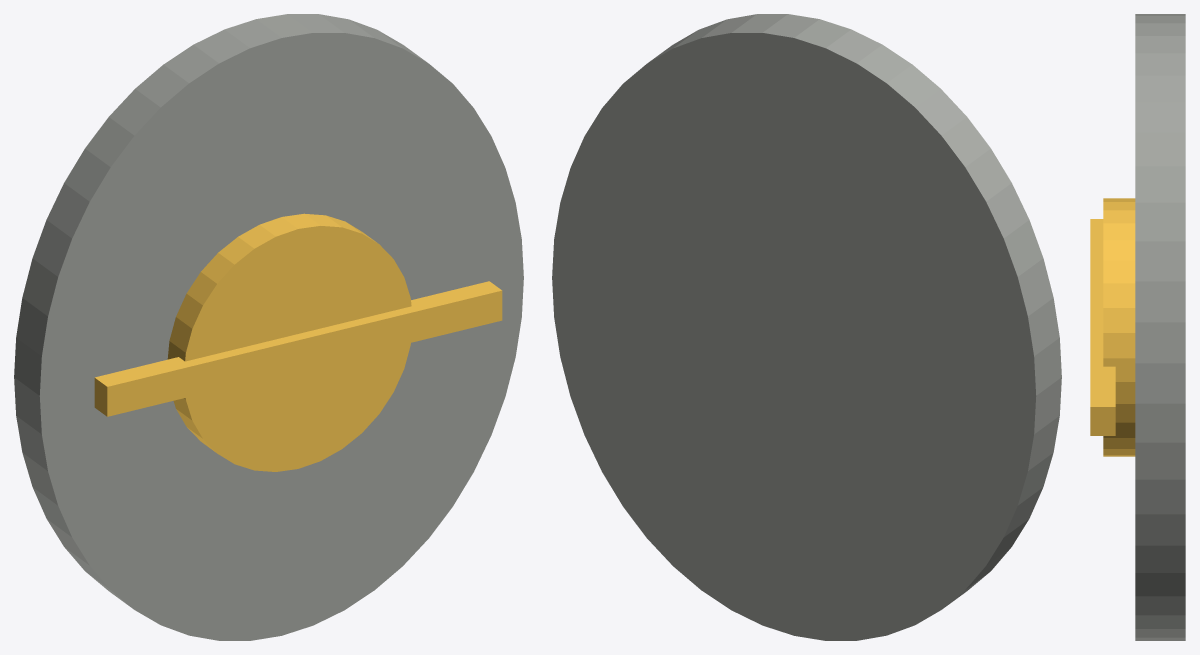
The model's file is shield_01_round_guard.obj.
3 renders of one model, left to right at view 1: azimuth 30°, elevation 25°; view 2: azimuth 150°, elevation 25°; view 3: azimuth 270°, elevation 25°, orthographic. The views are drawn at different scales.
Bounding box in the file's own units: 0.76 × 0.8968 × 0.1325.
